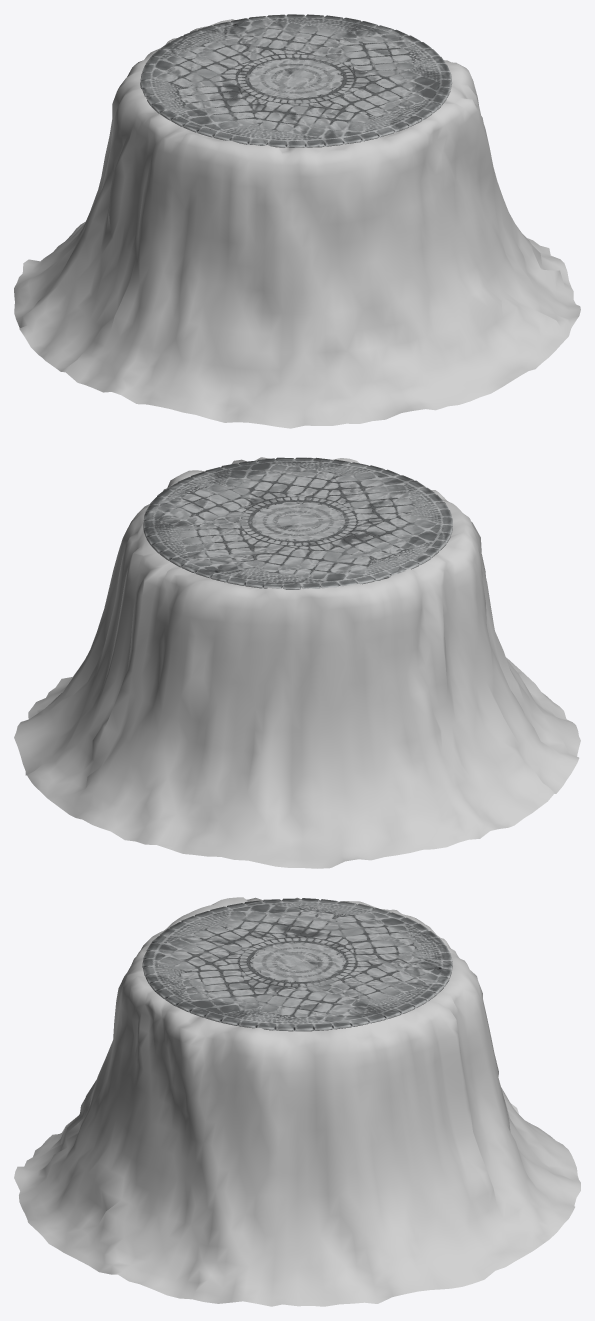
The model's file is ScenarioFinal11.fbx.
3 views of the same model, one above another, from view 1: azimuth 30°, elevation 25°; view 2: azimuth 150°, elevation 25°; view 3: azimuth 270°, elevation 25° (orthographic).
Visible parts, largest first — view 1: BaseLow, CircleofPowerLow; view 2: BaseLow, CircleofPowerLow; view 3: BaseLow, CircleofPowerLow.
Part boxes in pixels (x1,y1,x2,y2): BaseLow: (14, 19, 580, 428); CircleofPowerLow: (140, 14, 451, 147); BaseLow: (14, 457, 580, 868); CircleofPowerLow: (143, 457, 452, 589); BaseLow: (14, 897, 580, 1306); CircleofPowerLow: (142, 898, 452, 1031).
Size of the model in its own units: 359 by 164 by 362.
